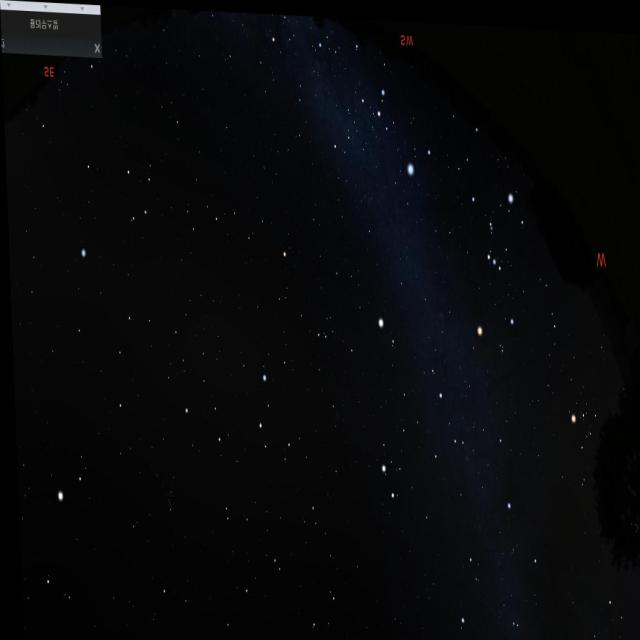bootes: (13, 469, 79, 640)
canis_major: (366, 71, 440, 191)
canis_minor: (374, 302, 398, 346)
gemini: (369, 359, 467, 504)
leo: (177, 349, 302, 470)
orion: (468, 180, 523, 334)
taurus: (562, 370, 637, 506)
